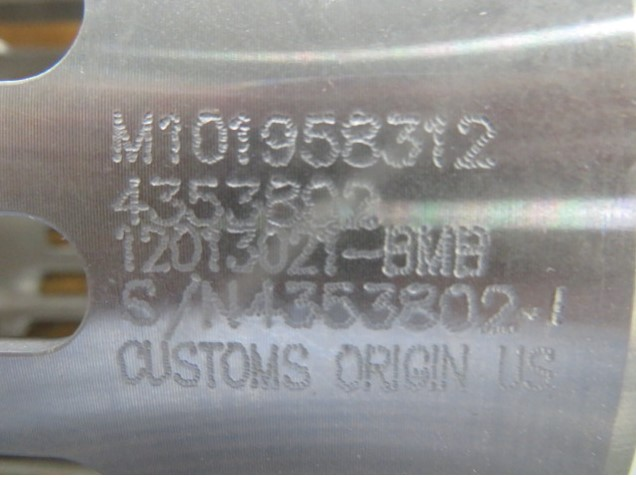character: (452, 109, 507, 175), (108, 107, 156, 172), (255, 104, 298, 172), (298, 105, 341, 172), (186, 102, 228, 170), (341, 105, 381, 172), (340, 172, 387, 228), (114, 277, 161, 332), (381, 110, 422, 172), (477, 282, 518, 341), (161, 276, 200, 338), (299, 172, 340, 228), (416, 219, 454, 279), (199, 277, 240, 332), (454, 224, 494, 279), (320, 278, 360, 333), (399, 280, 439, 334), (225, 173, 264, 228), (438, 280, 477, 335), (523, 344, 565, 395), (185, 175, 225, 228), (264, 173, 301, 230), (156, 102, 186, 172), (360, 280, 399, 333), (382, 219, 416, 278), (242, 280, 282, 330), (282, 278, 320, 330), (422, 110, 452, 175), (148, 175, 185, 226), (112, 176, 148, 227), (228, 104, 255, 170), (224, 226, 257, 279), (332, 340, 363, 396), (250, 339, 281, 395), (281, 341, 313, 395), (440, 340, 472, 393), (170, 339, 202, 390), (115, 336, 145, 390), (137, 226, 169, 276), (257, 226, 287, 279), (287, 226, 317, 278), (546, 277, 576, 329), (363, 341, 391, 396), (169, 226, 200, 275), (495, 341, 523, 395), (221, 339, 250, 390), (111, 223, 137, 276), (404, 341, 429, 395), (198, 339, 223, 391), (145, 339, 170, 390), (317, 229, 341, 278), (200, 226, 224, 275), (340, 245, 383, 263), (391, 341, 404, 395), (429, 341, 440, 393), (517, 305, 543, 323)
